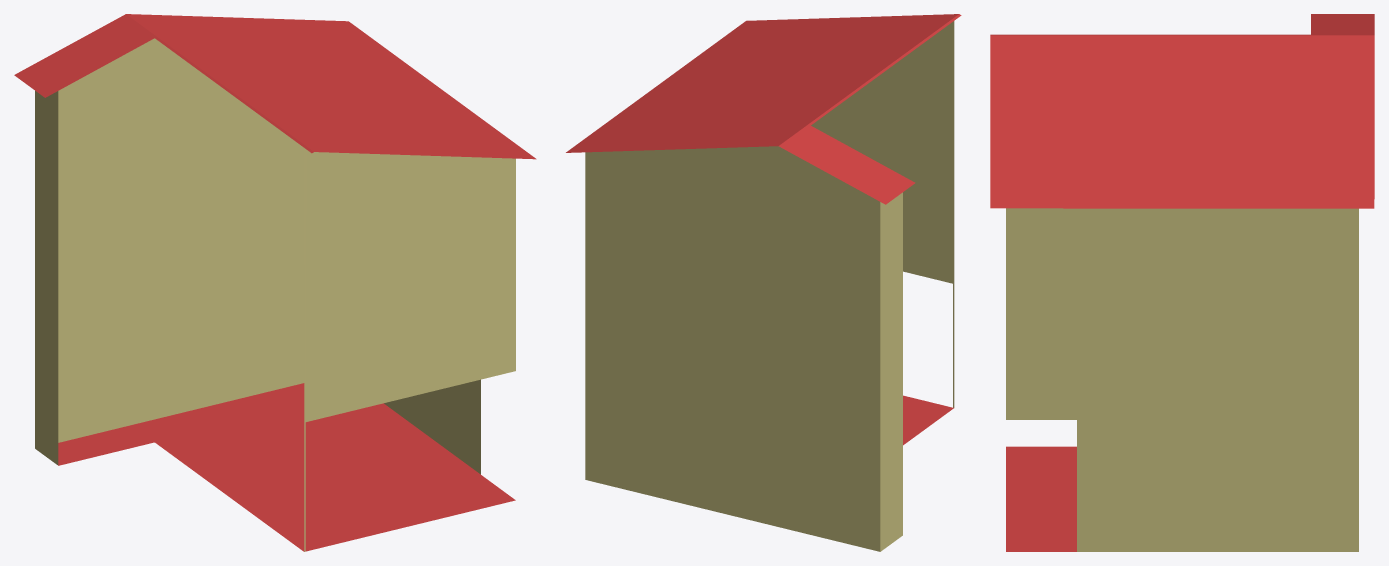
3 views of the same model, side by side, from view 1: azimuth 30°, elevation 25°; view 2: azimuth 150°, elevation 25°; view 3: azimuth 270°, elevation 25° (orthographic). The views are drawn at different scales.
Size of the model in its own units: 12.6 by 12.3 by 14.57.
